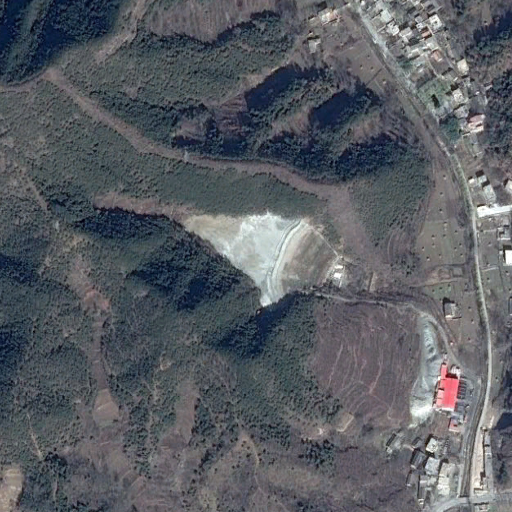tp: (179, 216, 337, 308)
